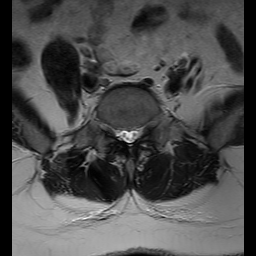CCS_stenosis: (126, 121, 134, 153)
LFS_normal: (142, 115, 149, 142)
LLS_normal: (134, 120, 142, 150)
RFS_normal: (112, 119, 119, 148)
RLS_normal: (119, 121, 126, 149)
